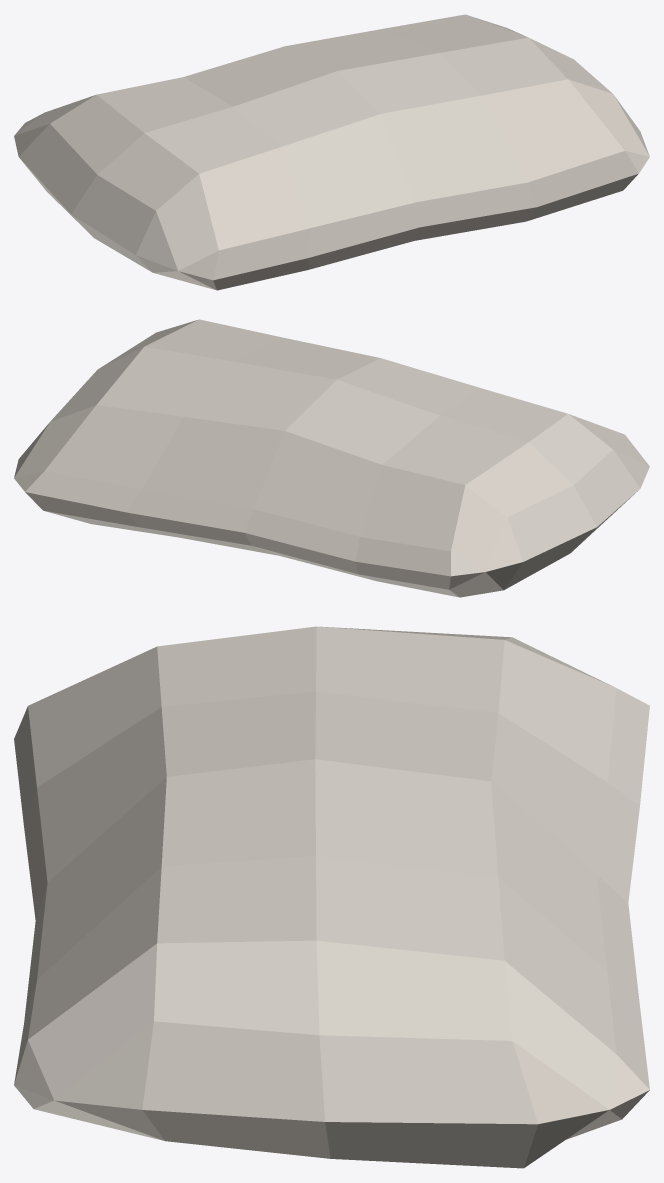
Rendered from SM_Prop_Pillow_01.fbx.
The picture shows the model from 3 angles, top to bottom: view 1: azimuth 30°, elevation 25°; view 2: azimuth 150°, elevation 25°; view 3: azimuth 270°, elevation 25°; orthographic projection. The views are drawn at different scales.
Visible parts, largest first — view 1: SM_Prop_Pillow_01; view 2: SM_Prop_Pillow_01; view 3: SM_Prop_Pillow_01.
Part boxes in pixels (x1,y1,x2,y2): SM_Prop_Pillow_01: (14, 14, 649, 290); SM_Prop_Pillow_01: (14, 319, 649, 597); SM_Prop_Pillow_01: (14, 626, 649, 1168).
Size of the model in its own units: 79.29 by 20.8 by 49.12.
